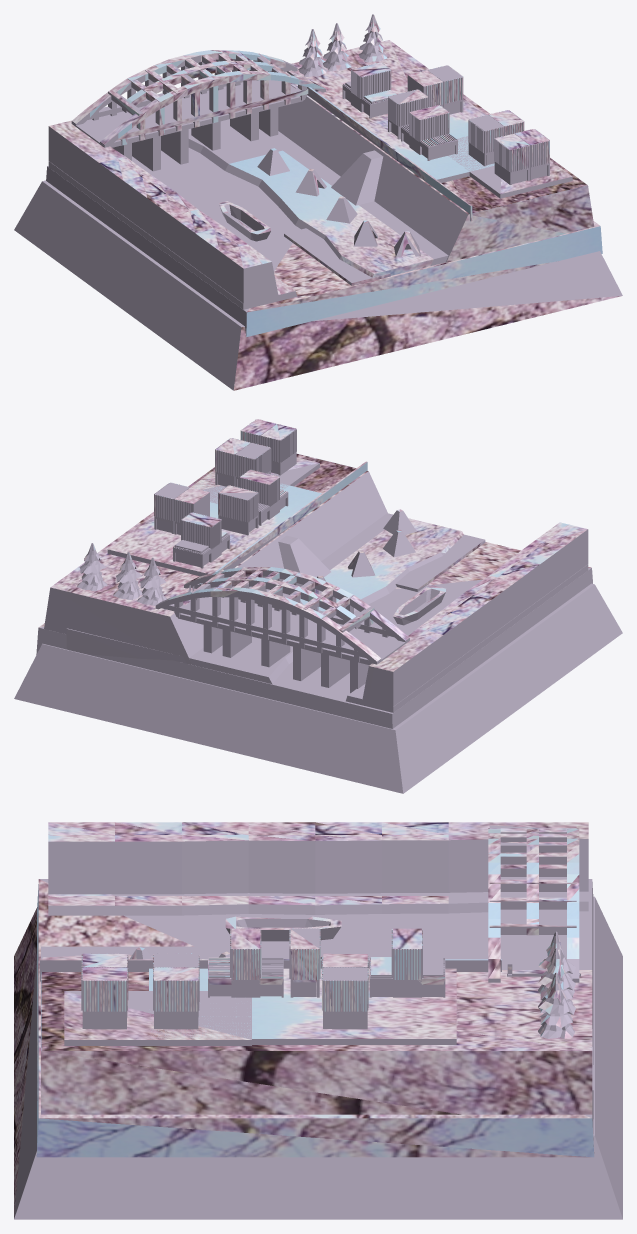
File: morioka-spring.glb
The picture shows the model from 3 angles, top to bottom: view 1: azimuth 30°, elevation 25°; view 2: azimuth 150°, elevation 25°; view 3: azimuth 270°, elevation 25°; orthographic projection. The views are drawn at different scales.
Visible parts, largest first — view 1: かわまち3D_Town_盛岡_for_テクスチャ; view 2: かわまち3D_Town_盛岡_for_テクスチャ; view 3: かわまち3D_Town_盛岡_for_テクスチャ.
Part boxes in pixels (x1,y1,x2,y2): かわまち3D_Town_盛岡_for_テクスチャ: (14, 14, 622, 390); かわまち3D_Town_盛岡_for_テクスチャ: (14, 419, 622, 793); かわまち3D_Town_盛岡_for_テクスチャ: (14, 822, 622, 1219).
Bounding box in the file's own units: 6.64 × 2.47 × 6.49.
Materials: 1 (1 with a texture image).
